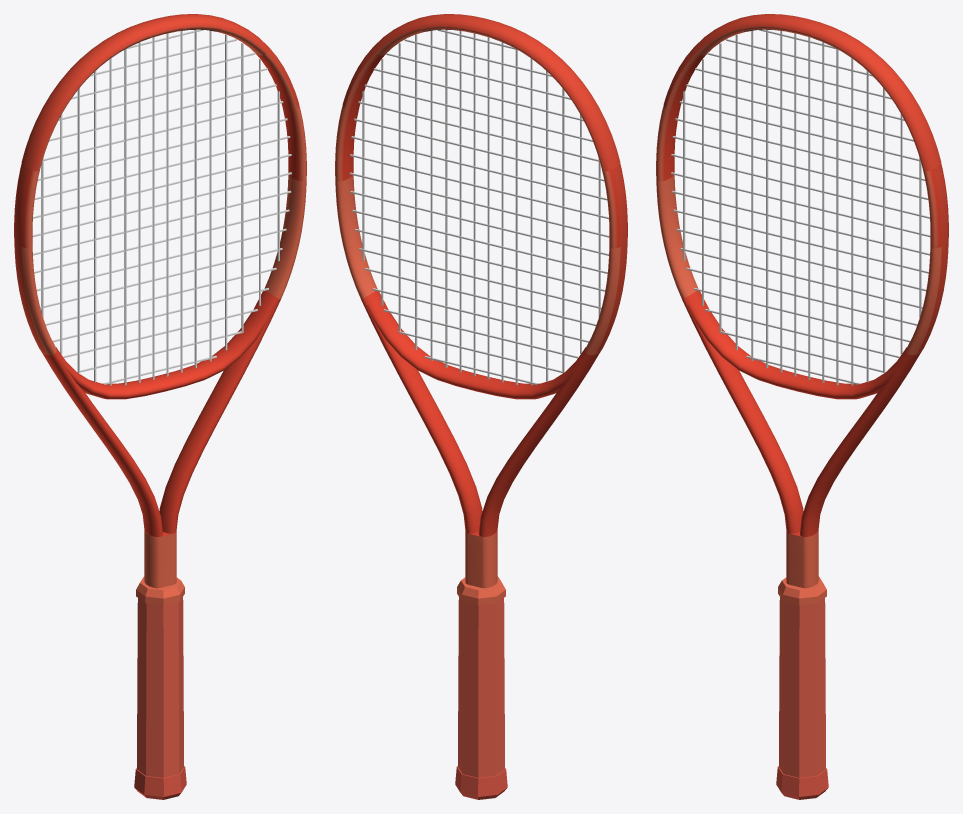
The model's file is head-radical-mp-2025.glb.
3 renders of one model, left to right at view 1: azimuth 30°, elevation 25°; view 2: azimuth 150°, elevation 25°; view 3: azimuth 330°, elevation 25°, orthographic.
Visible parts, largest first — view 1: frame, strings_mains, strings_crosses, grip, bumper, grommets, butt_cap, collar; view 2: frame, strings_mains, strings_crosses, grip, bumper, grommets, butt_cap, collar; view 3: frame, strings_mains, strings_crosses, grip, bumper, grommets, butt_cap, collar.
Part boxes in pixels (x1,y1,x2,y2): frame: (14, 26, 306, 588); strings_mains: (41, 29, 279, 385); strings_crosses: (32, 29, 291, 384); grip: (137, 597, 183, 777); bumper: (21, 14, 299, 171); grommets: (14, 164, 45, 352); butt_cap: (134, 766, 186, 799); collar: (136, 576, 184, 605); frame: (335, 26, 627, 588); strings_mains: (362, 29, 600, 385); strings_crosses: (349, 29, 609, 385); grip: (458, 597, 504, 777); bumper: (342, 14, 620, 171); grommets: (596, 164, 627, 352); butt_cap: (455, 766, 507, 799); collar: (457, 576, 505, 605); frame: (656, 26, 948, 588); strings_mains: (683, 29, 921, 385); strings_crosses: (671, 29, 930, 384); grip: (779, 597, 825, 777); bumper: (663, 14, 941, 171); grommets: (917, 164, 948, 352); butt_cap: (776, 766, 828, 799); collar: (778, 576, 826, 605).
Bounding box in the file's own units: 0.2672 × 0.6861 × 0.0396.
